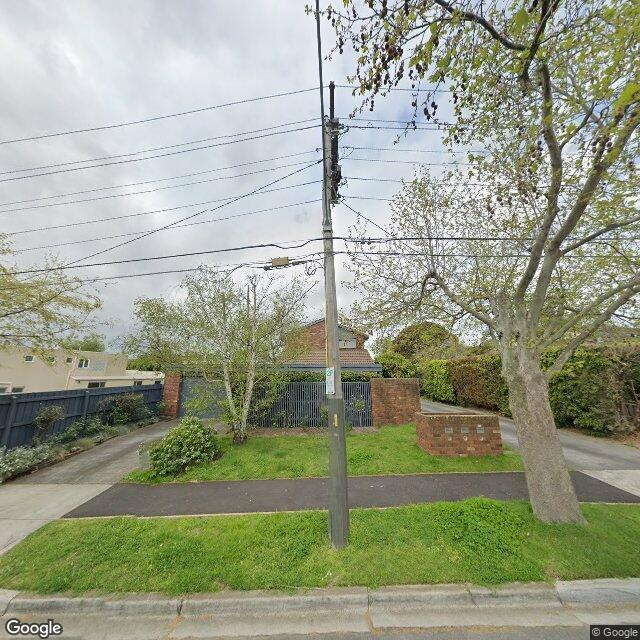crossarm: (332, 118, 339, 204), (330, 80, 334, 118)
streetlight: (316, 0, 332, 231)
timber-pole: (323, 120, 349, 547)
